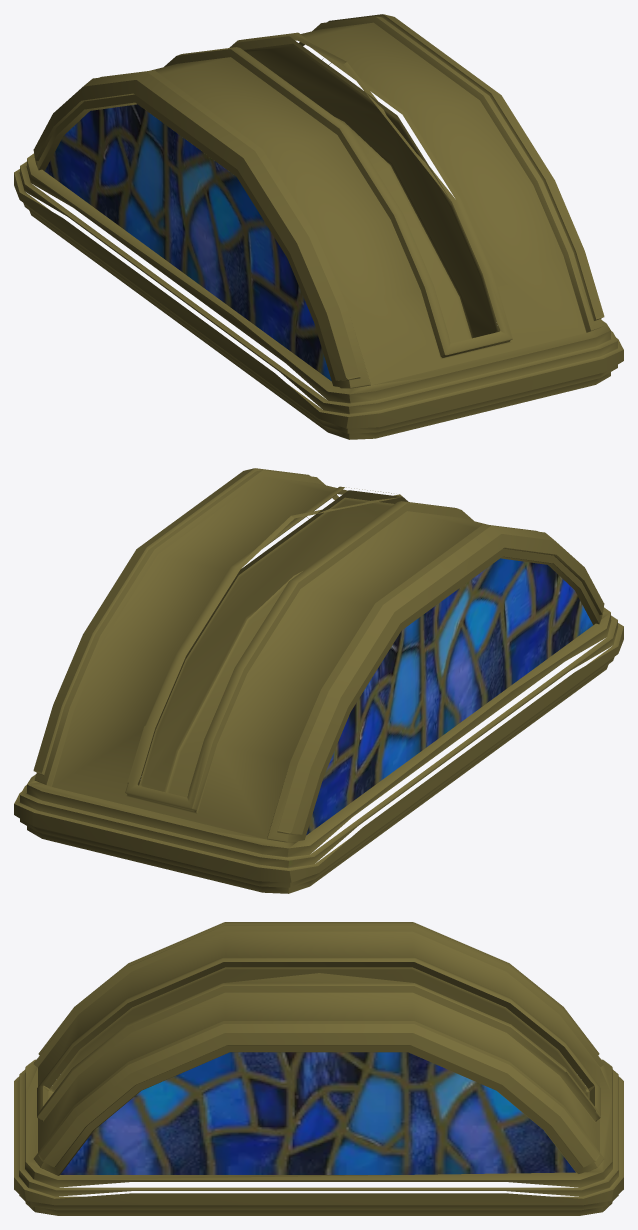
File: leverBase_lowPoly_lowPoly.glb
3 views of the same model, one above another, from view 1: azimuth 30°, elevation 25°; view 2: azimuth 150°, elevation 25°; view 3: azimuth 270°, elevation 25° (orthographic). The views are drawn at different scales.
Visible parts, largest first — view 1: Mesh_1.001; view 2: Mesh_1.001; view 3: Mesh_1.001.
Part boxes in pixels (<box>): Mesh_1.001: <box>14,14,623,439</box>; Mesh_1.001: <box>14,468,623,893</box>; Mesh_1.001: <box>14,922,623,1215</box>.
Size of the model in its own units: 0.4998 by 0.3569 by 1.
Materials: 1 (1 with a texture image).
